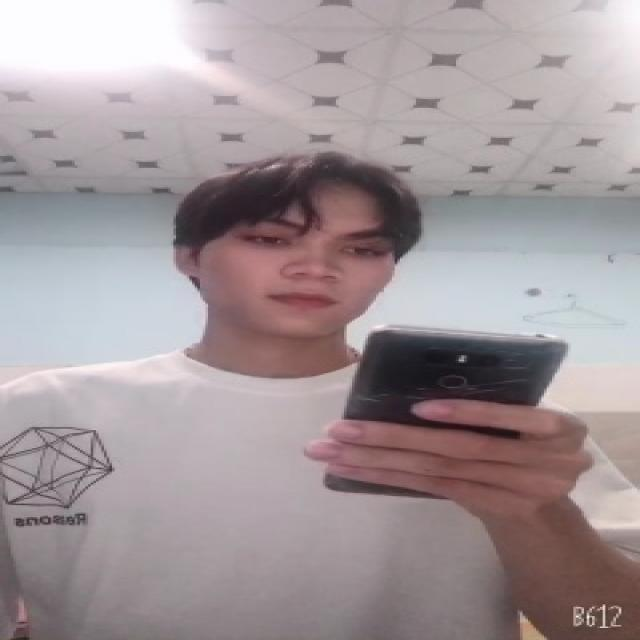Phone: (324, 322, 574, 500)
